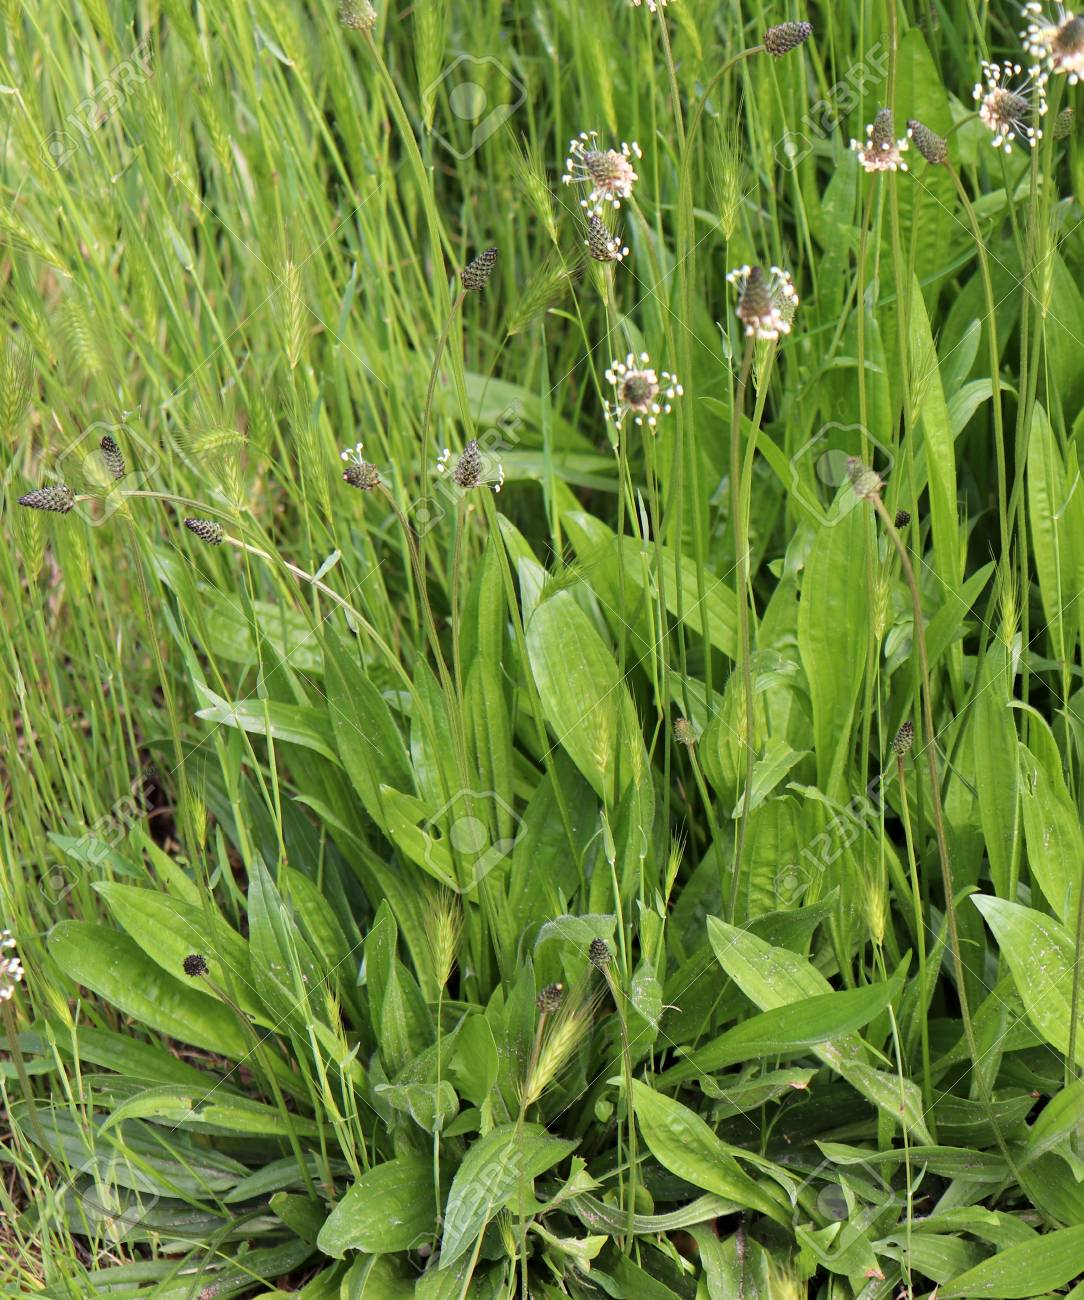buckhorn plantain: (119, 131, 1028, 1217)
